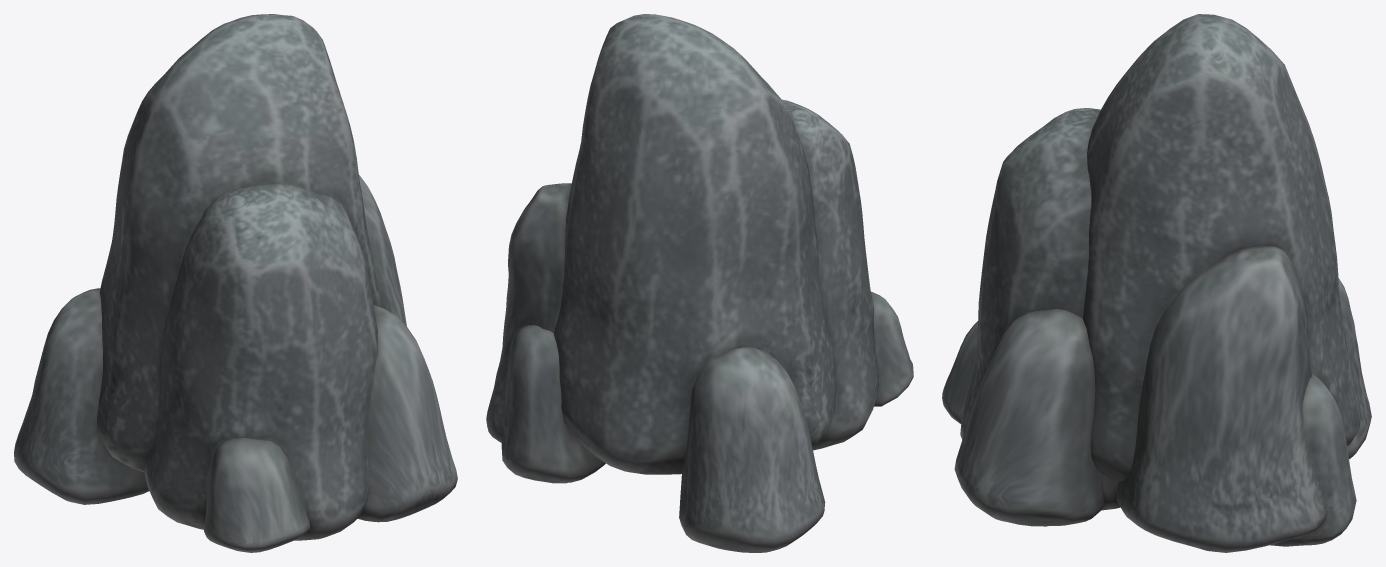
Rendered from rocks.glb.
3 views of the same model, side by side, from view 1: azimuth 30°, elevation 25°; view 2: azimuth 150°, elevation 25°; view 3: azimuth 270°, elevation 25° (orthographic). The views are drawn at different scales.
Visible parts, largest first — view 1: Low; view 2: Low; view 3: Low.
Boxes of the visible parts, x1=… form: Low: x1=14, y1=14, x2=457, y2=552; Low: x1=486, y1=14, x2=913, y2=552; Low: x1=942, y1=14, x2=1371, y2=552.
Size of the model in its own units: 5.57 by 7.29 by 5.65.
1 material, 1 textured.
